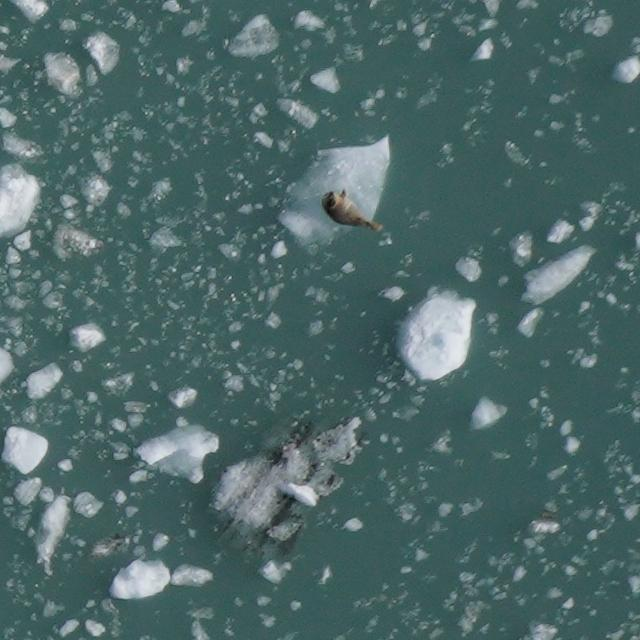seal: (317, 185, 389, 236)
